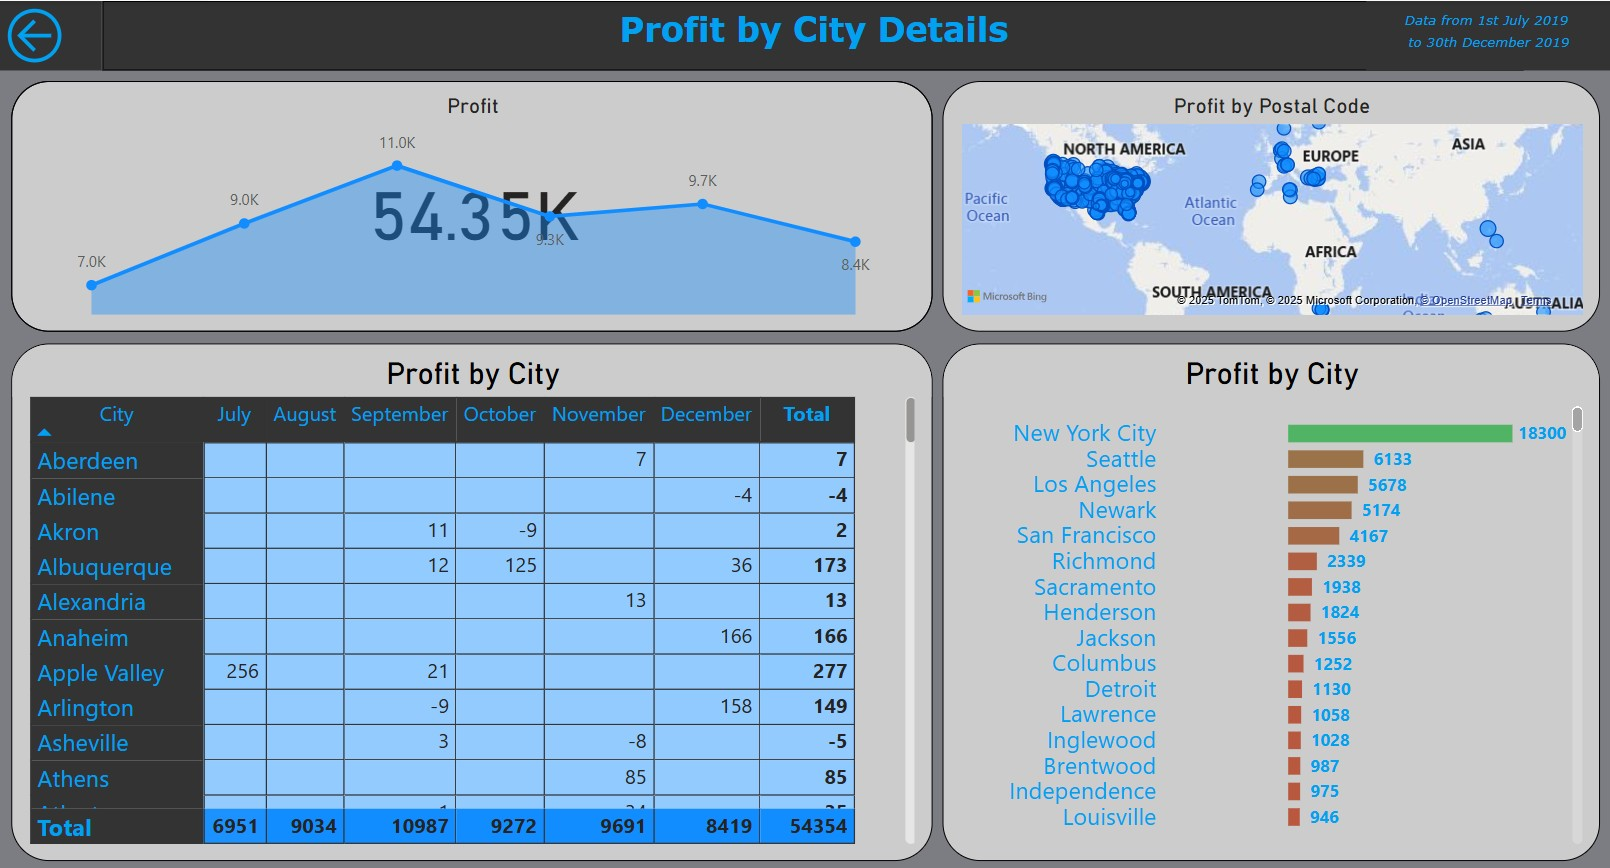

Layout of this report page (visuals, bound fields, positions):
{"tool":"powerbi","page":{"name":"Profit By City","canvas":[1280,690],"ordinal":2},"visuals":[{"type":"pivotTable","title":"Profit by City","fields":{"Rows":["Geographical_DimTable.City"],"Columns":["Orders_Table.Order Date.Variation.Date Hierarchy.Month"],"Values":["Sum(Orders_Table.Profit)"]},"box":[8.9,272.2,732.2,411.1],"z":0},{"type":"actionButton","box":[0,0,81,55],"z":1000},{"type":"textbox","box":[81.2,0,1128.8,55],"z":2000},{"type":"textbox","box":[1085,0,195,55],"z":3000},{"type":"barChart","title":"Profit by City","fields":{"Category":["Geographical_DimTable.City"],"Y":["Sum(Orders_Table.Profit)"]},"box":[748.9,272.2,522.2,411.1],"z":4000},{"type":"card","title":"Sales in Last 6 Months","fields":{"Values":["Sum(Orders_Table.Profit)"]},"box":[8.9,63.3,732.2,198.9],"z":5000},{"type":"areaChart","title":"Profit","fields":{"Category":["Orders_Table.Order Date.Variation.Date Hierarchy.Month"],"Y":["Sum(Orders_Table.Profit)"]},"box":[8.9,63.3,732.2,198.9],"z":6000},{"type":"map","title":"Profit by Postal Code","fields":{"Category":["Geographical_DimTable.Postal Code"],"Size":["Sum(Orders_Table.Profit)"]},"box":[748.9,63.3,522.2,198.9],"z":7000}]}

Visuals, with their boxes in screenshot pixels (x1, y1, x2, y2), scaled from the page's 1280x690 canvas onto the 1610x868 screenshot:
"Profit by City" pivotTable: Rect(11, 342, 932, 860)
actionButton: Rect(0, 0, 102, 69)
textbox: Rect(102, 0, 1522, 69)
textbox: Rect(1365, 0, 1609, 69)
"Profit by City" barChart: Rect(942, 342, 1599, 860)
"Sales in Last 6 Months" card: Rect(11, 80, 932, 330)
"Profit" areaChart: Rect(11, 80, 932, 330)
"Profit by Postal Code" map: Rect(942, 80, 1599, 330)
